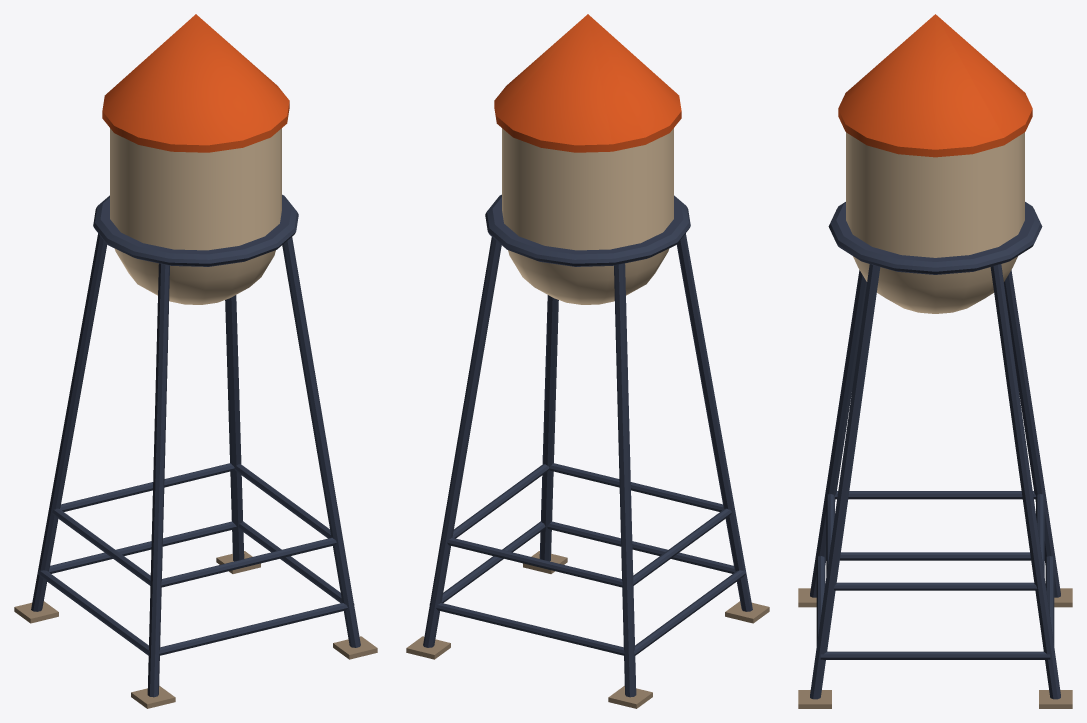
The model's file is Prop_RoofWaterStore_04.fbx.
The picture shows the model from 3 angles, left to right: view 1: azimuth 30°, elevation 25°; view 2: azimuth 150°, elevation 25°; view 3: azimuth 270°, elevation 25°; orthographic projection. The views are drawn at different scales.
Parts seen in each view (by area): view 1: Prop_RoofWaterStore_04; view 2: Prop_RoofWaterStore_04; view 3: Prop_RoofWaterStore_04.
Part boxes in pixels (left/top/right/bottom): Prop_RoofWaterStore_04: left=14, top=14, right=377, bottom=708; Prop_RoofWaterStore_04: left=406, top=14, right=769, bottom=708; Prop_RoofWaterStore_04: left=798, top=14, right=1072, bottom=708.
Size of the model in its own units: 241 by 618 by 241.
1 material, 1 textured.
